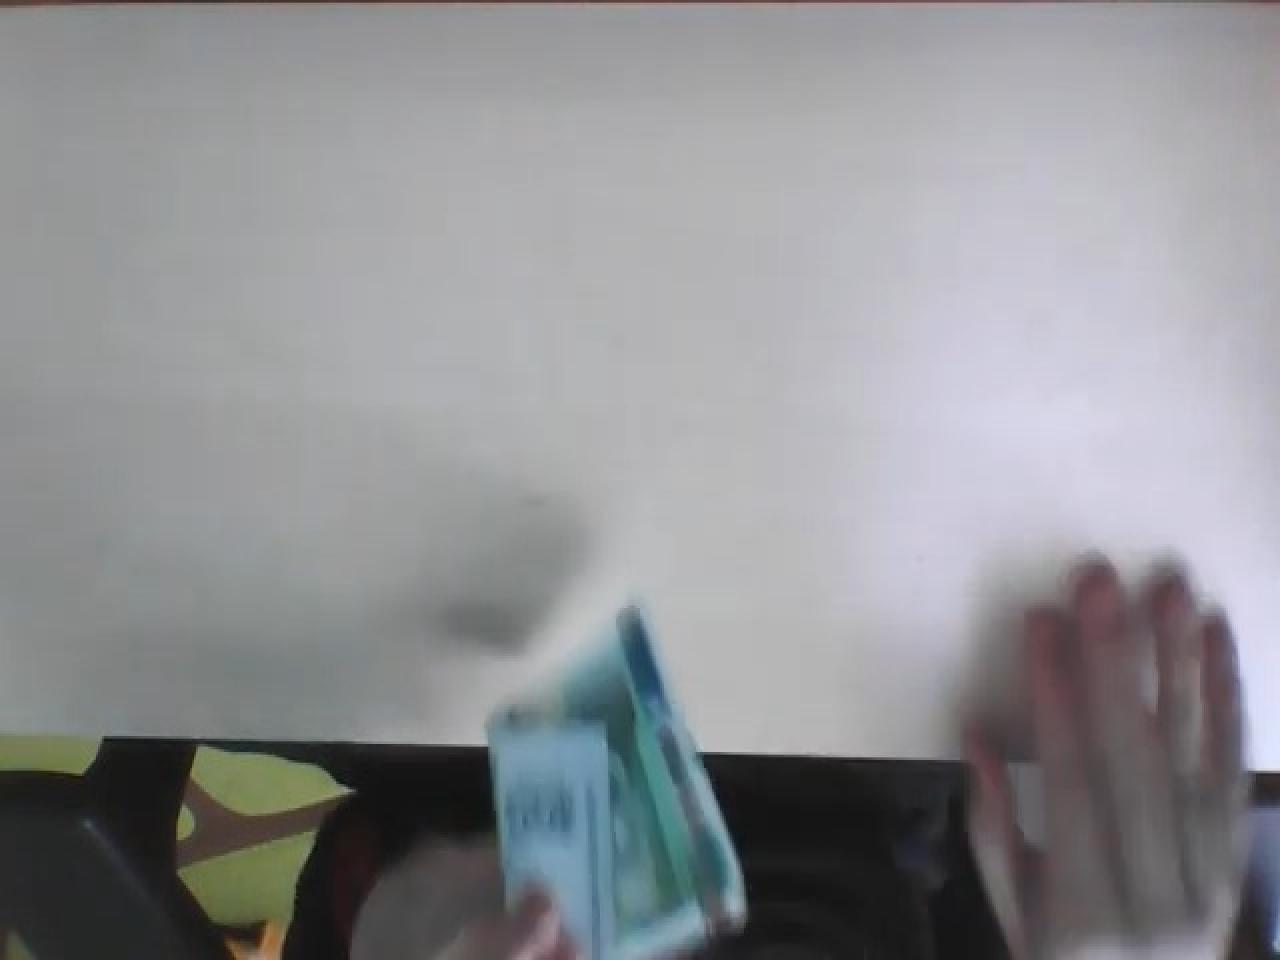100leva: (484, 605, 750, 960)
